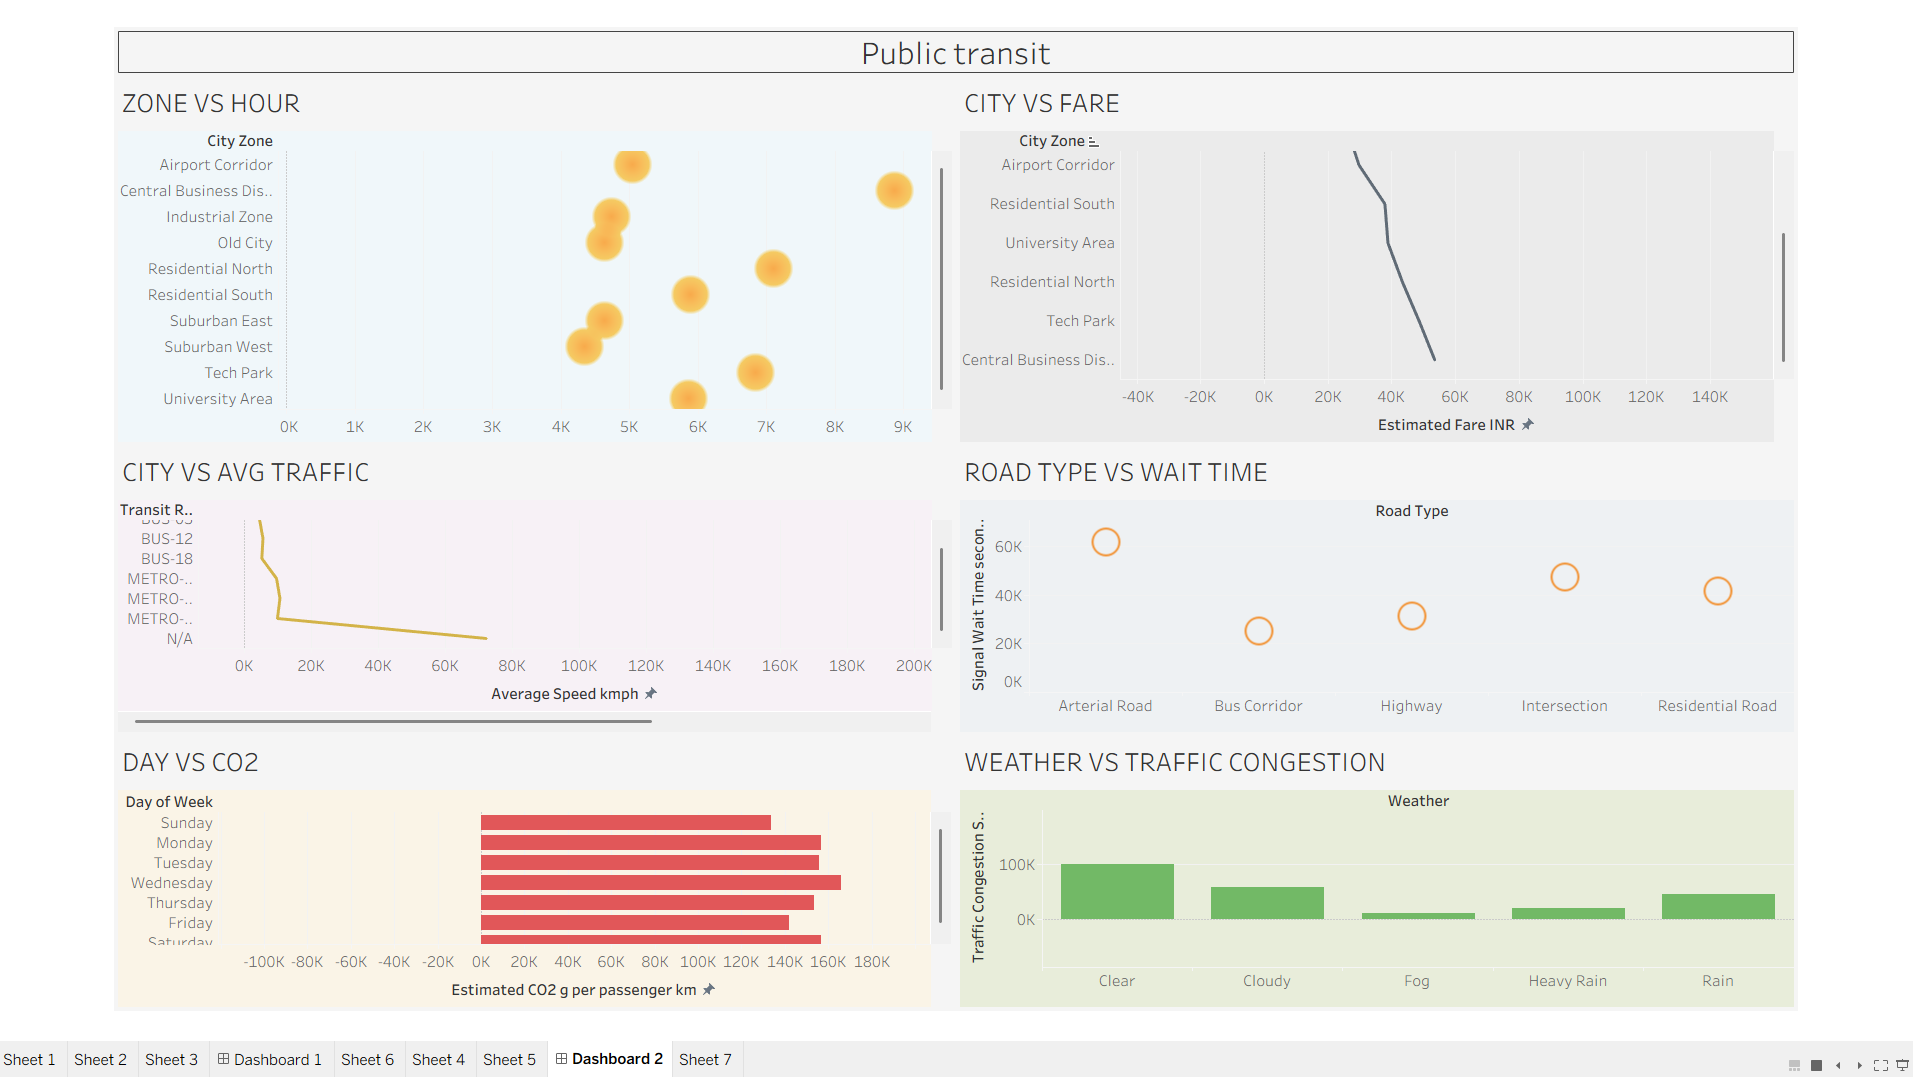

What the dashboard file says about the page in this screenshot:
{"tool":"tableau","page":{"name":"Dashboard 2","canvas":[1700,1000],"ordinal":0},"visuals":[{"type":"title","box":[8,8,1684,50]},{"type":"worksheet","title":"Sheet 2","mark":"Heatmap","rows":["City_Zone"],"cols":["Hour"],"box":[8,58,841.9,369]},{"type":"worksheet","title":"Sheet 5","mark":"Line","rows":["City_Zone"],"cols":["Estimated_Fare_INR"],"box":[849.9,58,842,369]},{"type":"worksheet","title":"Sheet 3","mark":"Line","rows":["Transit_Route"],"cols":["Average_Speed_kmph"],"box":[8,427,842,290]},{"type":"worksheet","title":"Sheet 6","mark":"Shape","rows":["Signal_Wait_Time_seconds"],"cols":["Road_Type"],"box":[850,427,842,290]},{"type":"worksheet","title":"Sheet 1","mark":"Automatic","rows":["Day_of_Week"],"cols":["Estimated_CO2_g_per_passenger_km"],"box":[8,717,841.9,275]},{"type":"worksheet","title":"Sheet 4","mark":"Automatic","rows":["Traffic_Congestion_Score"],"cols":["Weather"],"box":[849.9,717,842,275]}]}

Visuals, with their boxes on the page's 1700x1000 design canvas (x1, y1, x2, y2). These are canvas units, not pixel positions in the 1913x1077 screenshot, which may show the page scaled, cropped or inside an application window:
title: select_region(8, 8, 1692, 58)
"Sheet 2" worksheet (Heatmap marks): select_region(8, 58, 850, 427)
"Sheet 5" worksheet (Line marks): select_region(850, 58, 1692, 427)
"Sheet 3" worksheet (Line marks): select_region(8, 427, 850, 717)
"Sheet 6" worksheet (Shape marks): select_region(850, 427, 1692, 717)
"Sheet 1" worksheet: select_region(8, 717, 850, 992)
"Sheet 4" worksheet: select_region(850, 717, 1692, 992)
